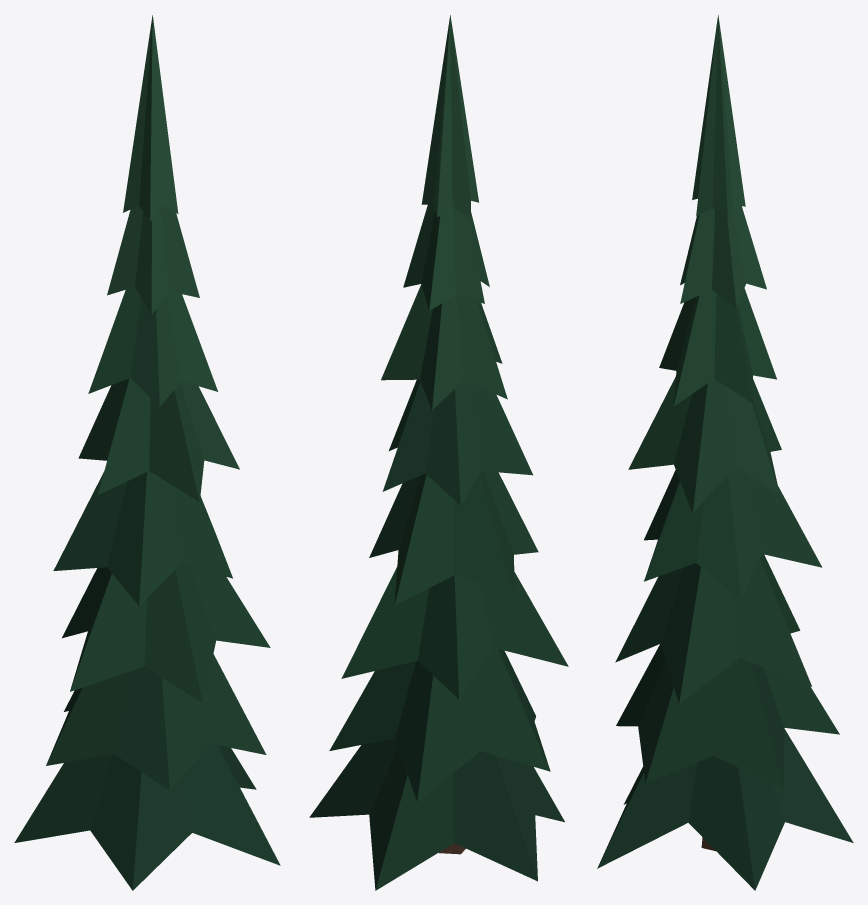
Rendered from spruce_b.glb.
The picture shows the model from 3 angles, left to right: view 1: azimuth 30°, elevation 25°; view 2: azimuth 150°, elevation 25°; view 3: azimuth 270°, elevation 25°; orthographic projection.
Visible parts, largest first — view 1: spruce_b; view 2: spruce_b; view 3: spruce_b.
Part boxes in pixels (bbox=[...]): spruce_b: bbox=[14, 15, 280, 890]; spruce_b: bbox=[309, 15, 568, 890]; spruce_b: bbox=[597, 15, 853, 890].
Size of the model in its own units: 3.44 by 11.6 by 3.25.
